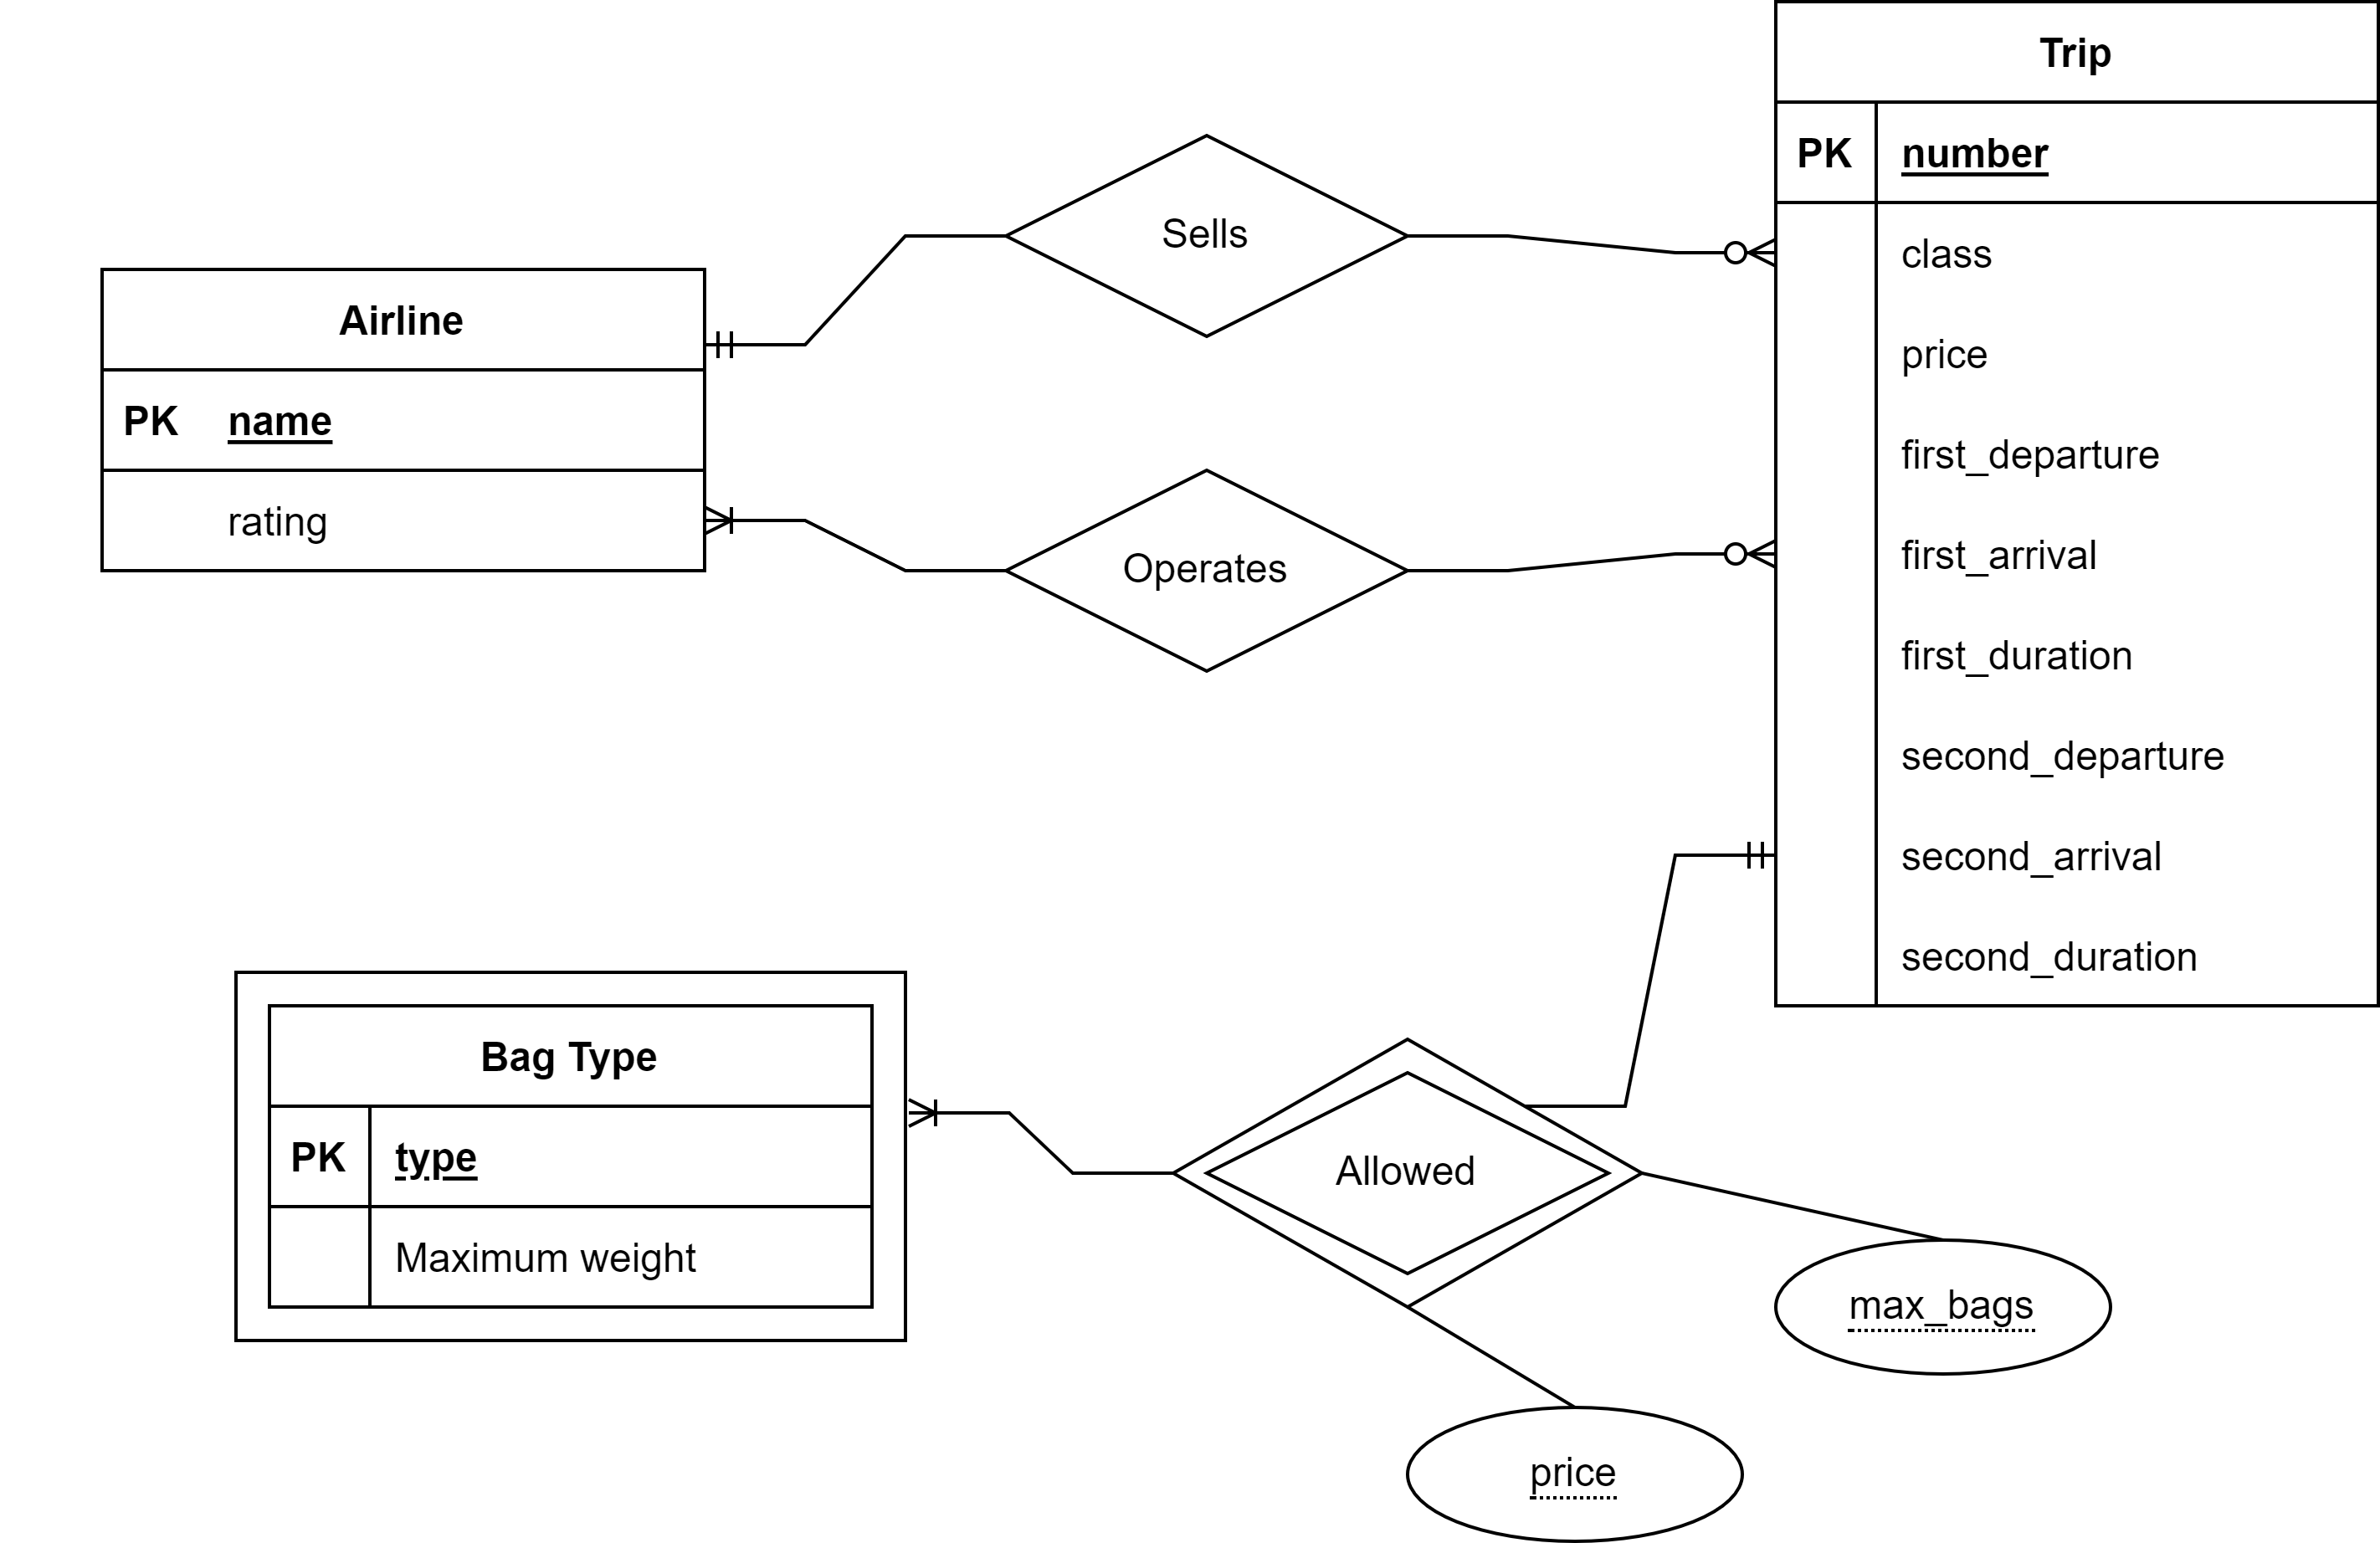entity: (1775, 2, 2380, 1009), (101, 265, 706, 567)
ident_rel: (1166, 1038, 1644, 1311)
many: (1684, 217, 1780, 296), (1688, 520, 1782, 584), (703, 498, 775, 551), (907, 1087, 970, 1134)
one: (1691, 827, 1776, 891), (703, 321, 786, 369)
rel: (1003, 466, 1409, 674), (1006, 130, 1405, 338)
rel_attr: (1409, 1403, 1745, 1543), (1776, 1234, 2111, 1375)
weak_entity: (232, 969, 909, 1342)
